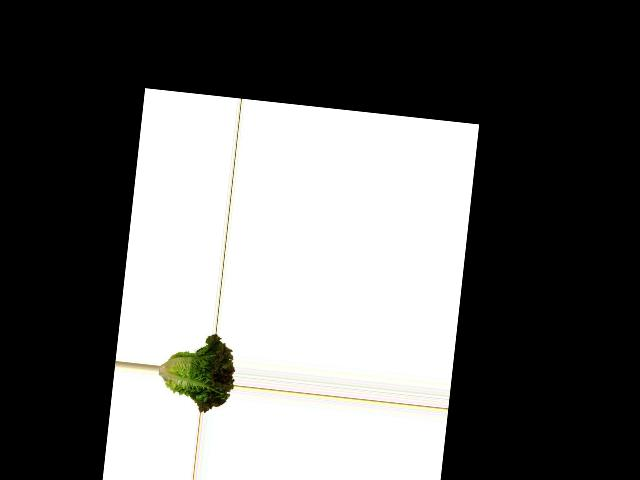lettuce: (154, 328, 238, 414)
